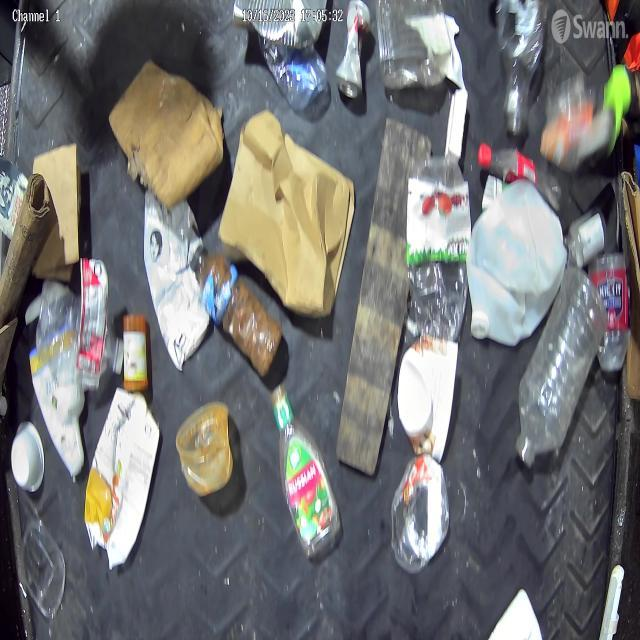can: (336, 0, 368, 98)
milk_jug: (468, 185, 564, 352)
plastic_bottle: (517, 271, 602, 470), (403, 152, 469, 346), (36, 284, 123, 376), (497, 0, 545, 121), (259, 25, 326, 106), (594, 248, 632, 382)
